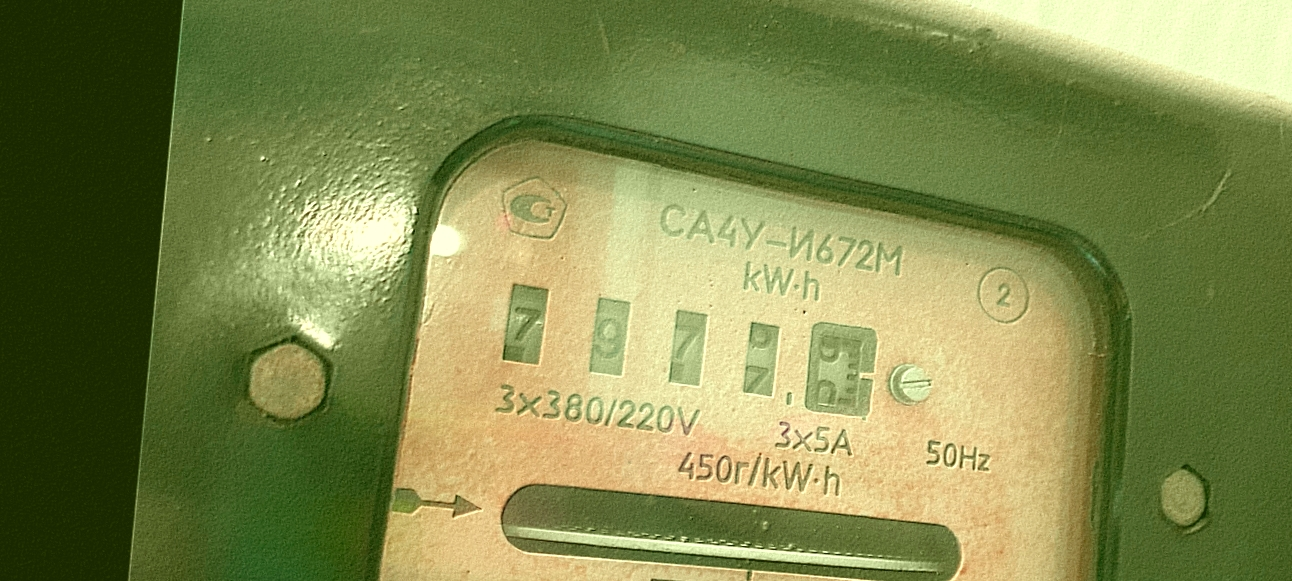0: (813, 376, 838, 407)
7: (506, 302, 544, 350), (740, 357, 774, 401), (671, 321, 703, 365)
9: (591, 314, 626, 364), (815, 333, 848, 367)
screen: (486, 270, 897, 434)
